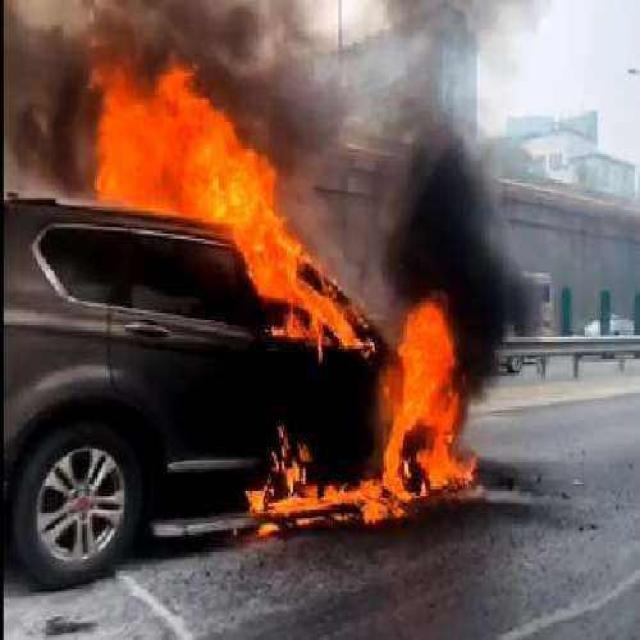fire: (85, 60, 374, 356), (392, 282, 483, 522), (242, 449, 387, 550)
smoke: (387, 89, 518, 279), (14, 5, 306, 70)
